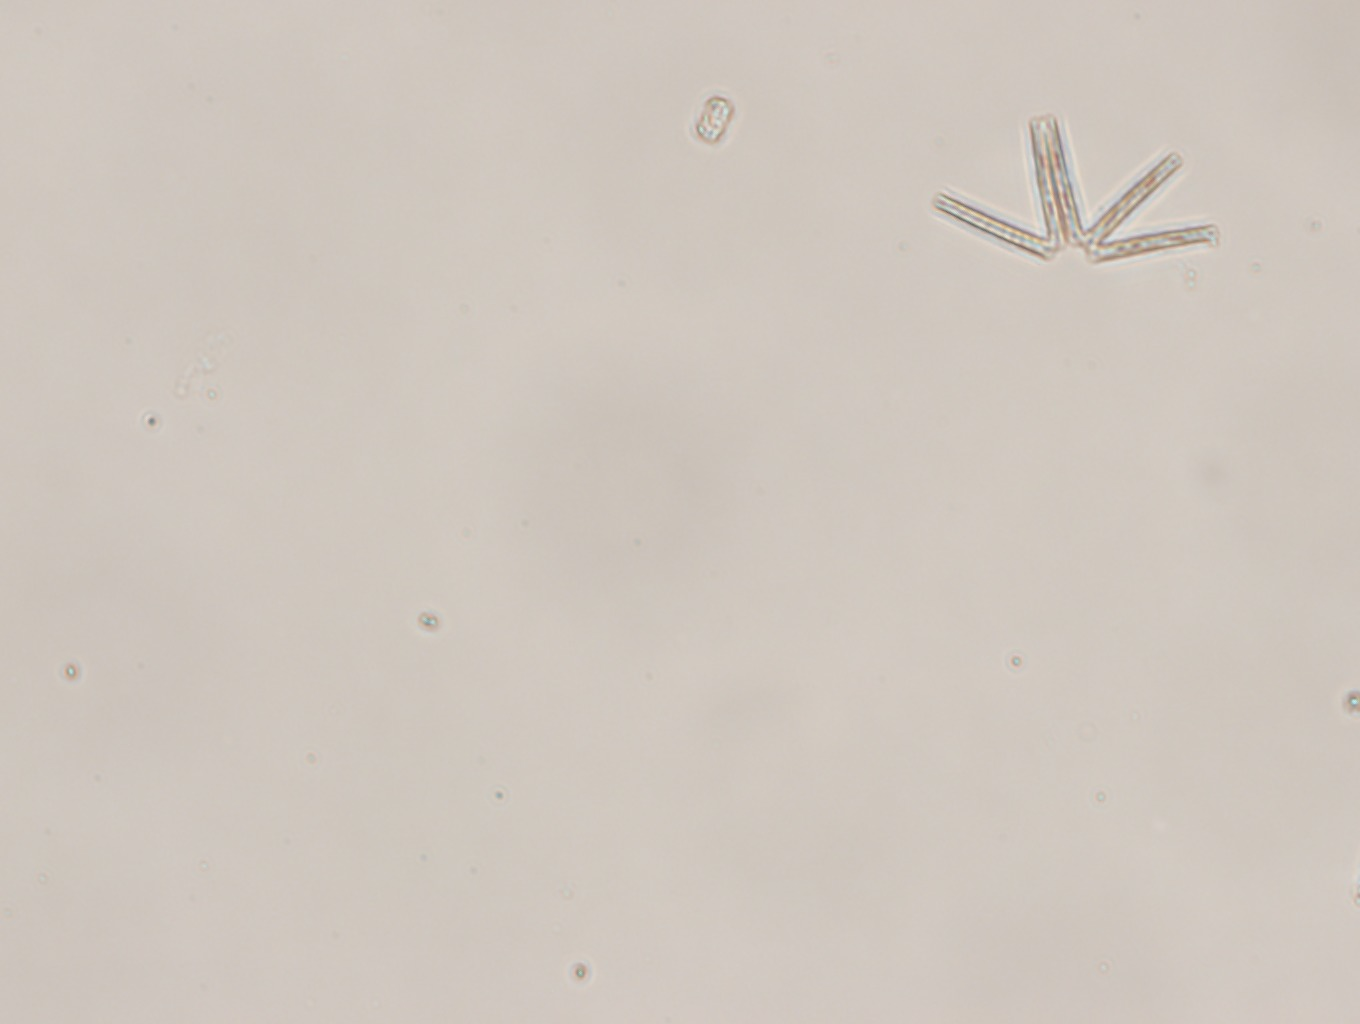thalassionema nitzschioides: (925, 98, 1226, 272)
